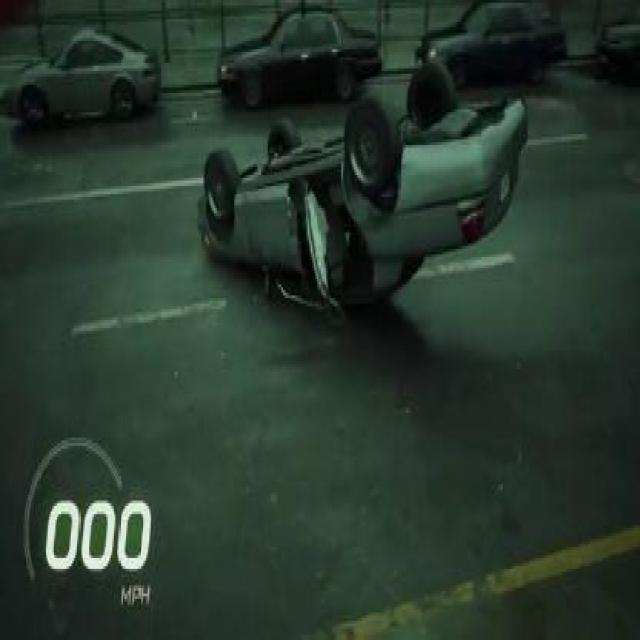accident: (196, 47, 526, 328)
